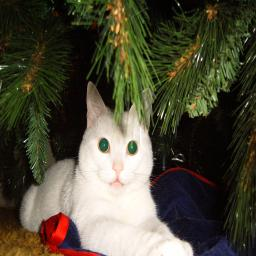catnose: (112, 158, 124, 176)
